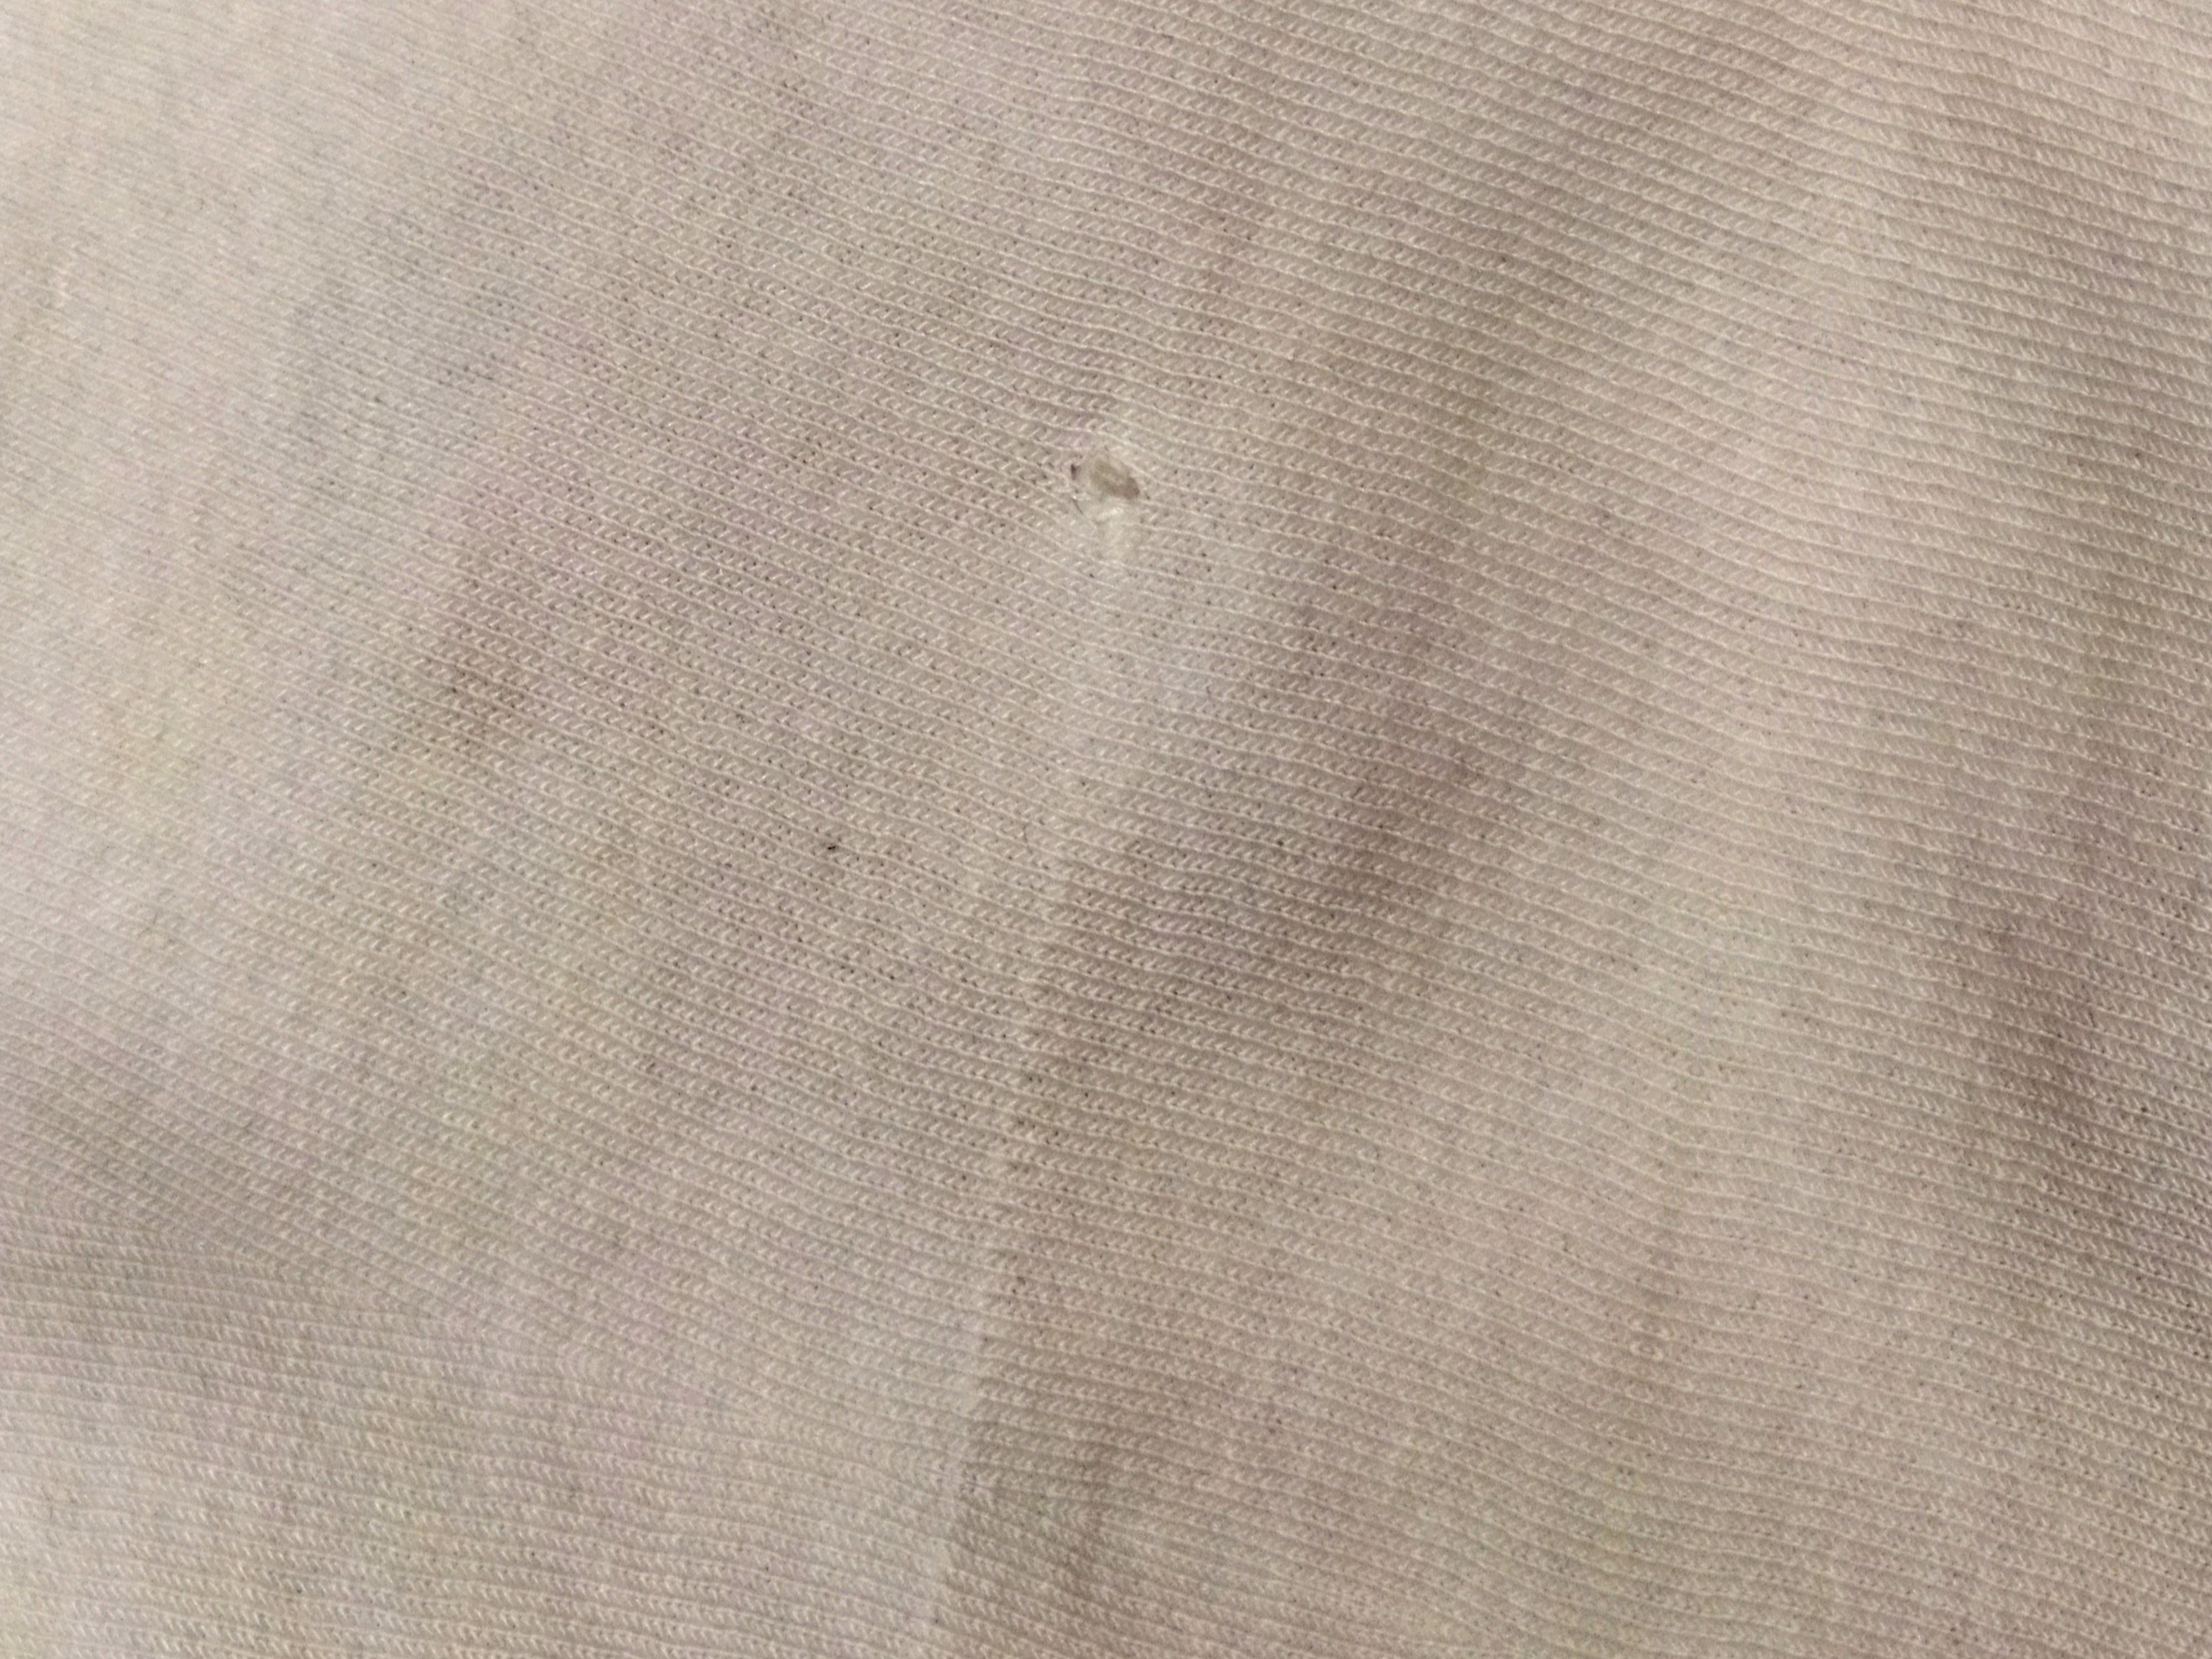knot: (1040, 420, 1172, 533)
